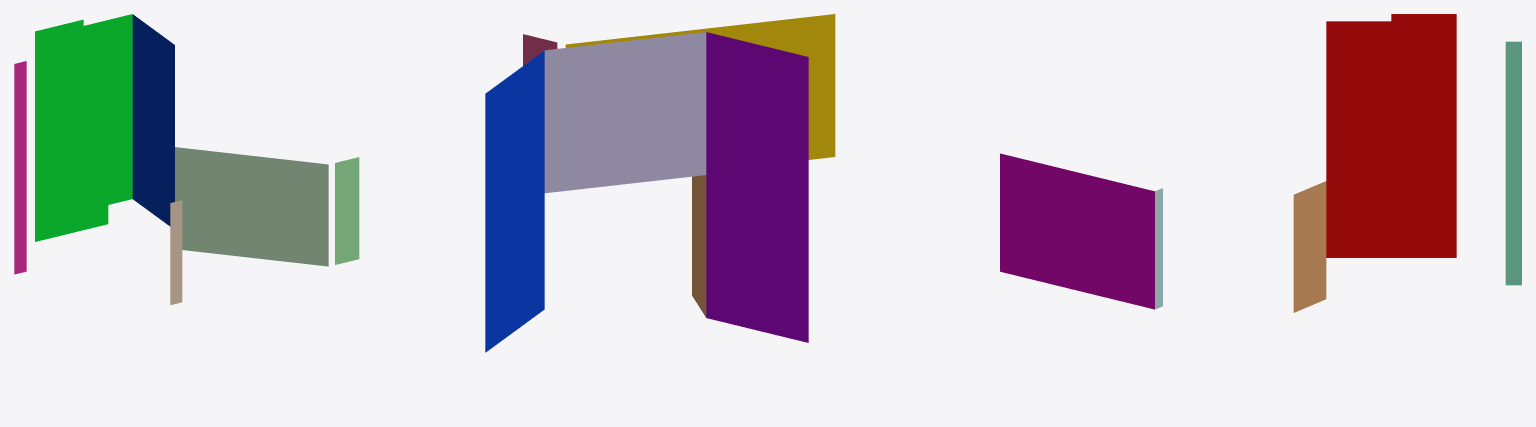
Rendered from brkgry02_2.gltf.
The picture shows the model from 3 angles, left to right: view 1: azimuth 30°, elevation 25°; view 2: azimuth 150°, elevation 25°; view 3: azimuth 270°, elevation 25°; orthographic projection. The views are drawn at different scales.
Parts seen in each view (by area): view 1: BRKGRY01_2; view 2: BRKGRY01_2; view 3: BRKGRY01_2.
Part boxes in pixels (bbox=[...]): BRKGRY01_2: bbox=[14, 14, 359, 304]; BRKGRY01_2: bbox=[485, 14, 835, 352]; BRKGRY01_2: bbox=[1000, 14, 1521, 312].
Size of the model in its own units: 720 by 528 by 1024.
